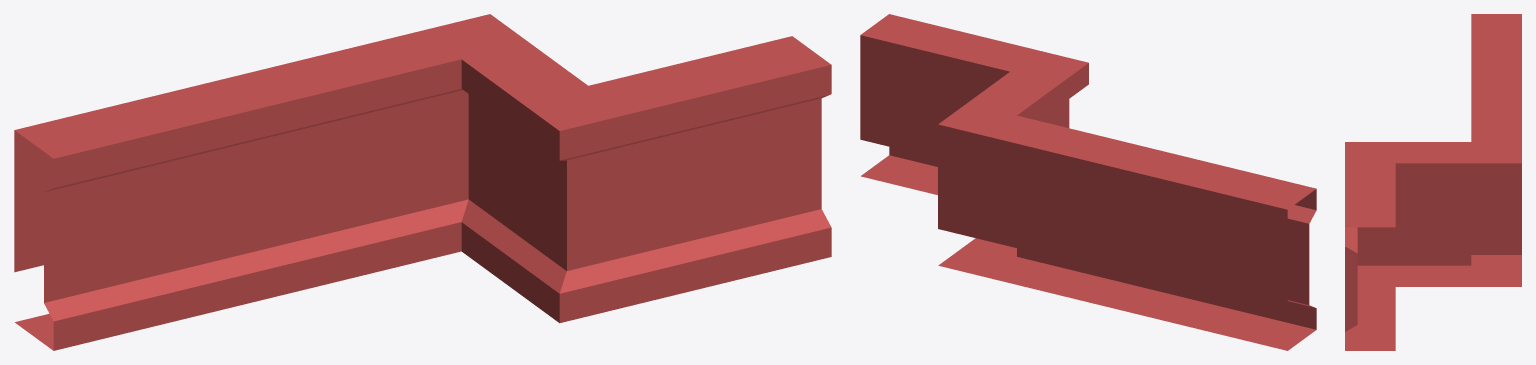
File: Cornice_Small_Metal_90Angle_R.gltf
3 renders of one model, left to right at view 1: azimuth 30°, elevation 25°; view 2: azimuth 150°, elevation 25°; view 3: azimuth 270°, elevation 25°, orthographic. The views are drawn at different scales.
Visible parts, largest first — view 1: Cornice_Small_Metal_90Angle_R; view 2: Cornice_Small_Metal_90Angle_R; view 3: Cornice_Small_Metal_90Angle_R.
Part boxes in pixels (x1=…): Cornice_Small_Metal_90Angle_R: x1=14, y1=14, x2=831, y2=350; Cornice_Small_Metal_90Angle_R: x1=860, y1=14, x2=1316, y2=350; Cornice_Small_Metal_90Angle_R: x1=1345, y1=14, x2=1521, y2=350.
Size of what is drawn, in the model's own units: 2 by 0.5403 by 0.7.
